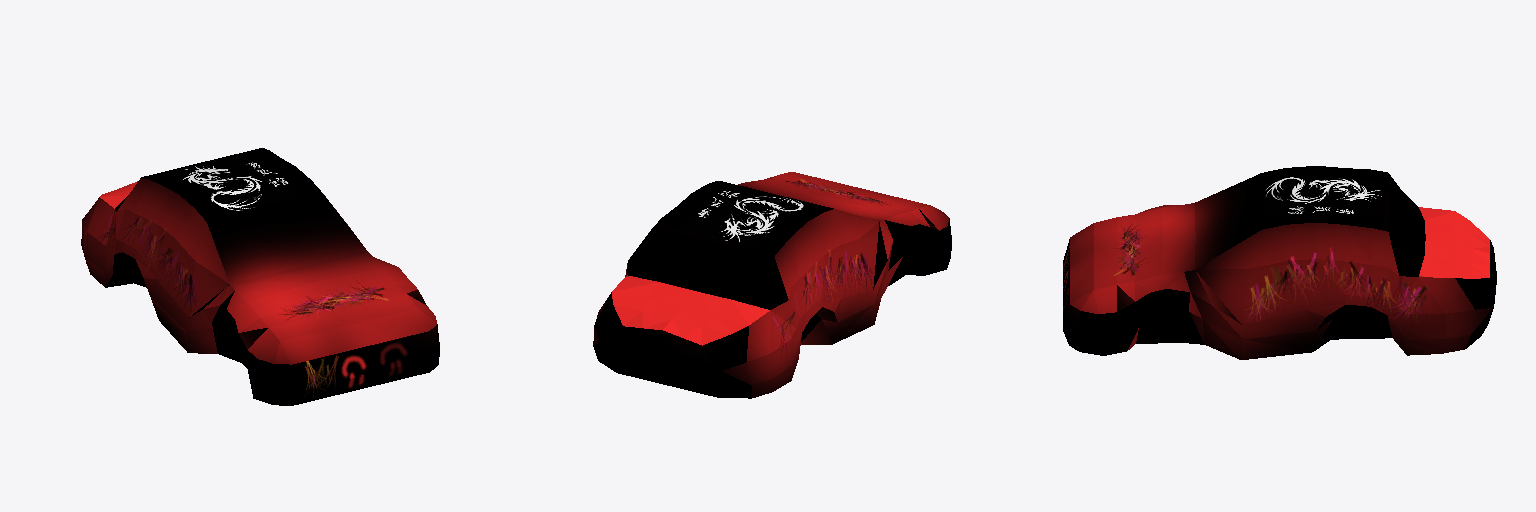
3 renders of one model, left to right at view 1: azimuth 30°, elevation 25°; view 2: azimuth 150°, elevation 25°; view 3: azimuth 270°, elevation 25°, orthographic.
Parts seen in each view (by area): view 1: Box001; view 2: Box001; view 3: Box001.
Part boxes in pixels (x1,y1,x2,y2): Box001: (81, 148, 439, 405); Box001: (593, 172, 951, 398); Box001: (1063, 166, 1496, 359).
Bounding box in the file's own units: 2.38 × 1.55 × 4.93.
Materials: 1 (1 with a texture image).